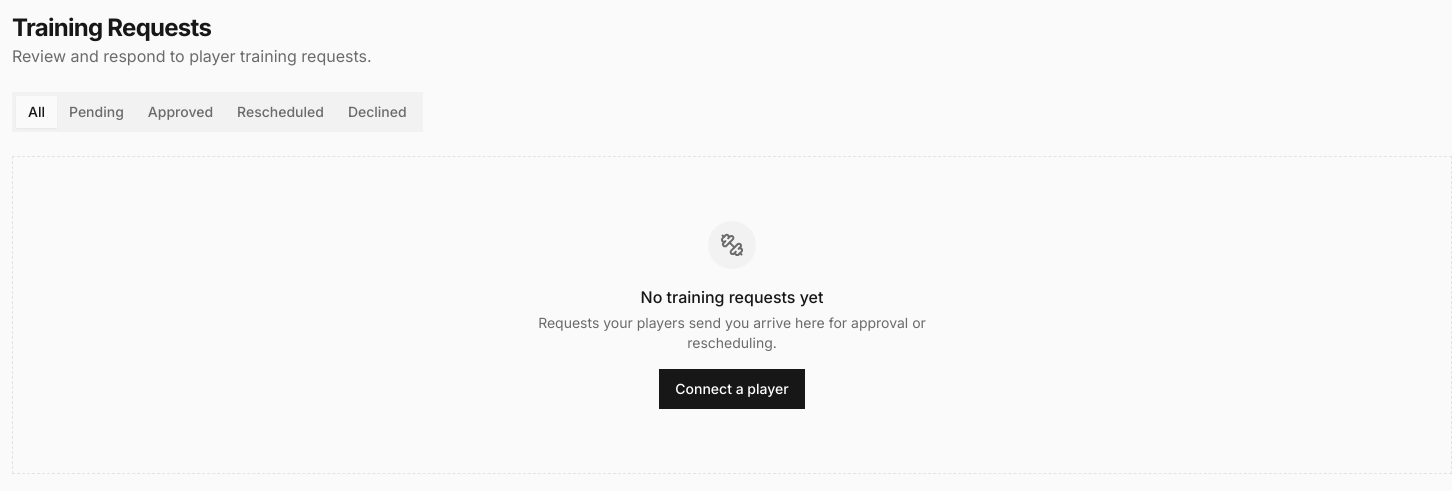
TrainingRequestsPage empty state › a status filter that matches nothing is a filter message, not a first-run one
Radix tabs switch on pointer-down, which a bare click event does not send.
Step 1. Click the tab "Approved" → (180, 112), box [136,96,225,128]
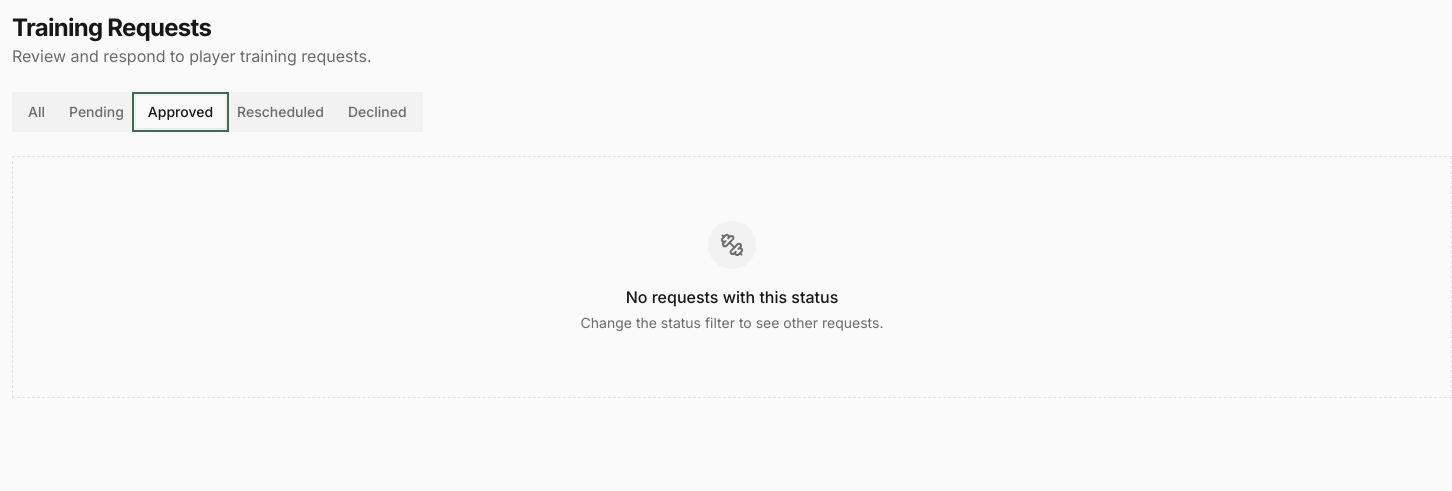
Now the text "No requests with this status" is shown, box [626,287,838,307]
Now the text "No training requests yet" is gone
